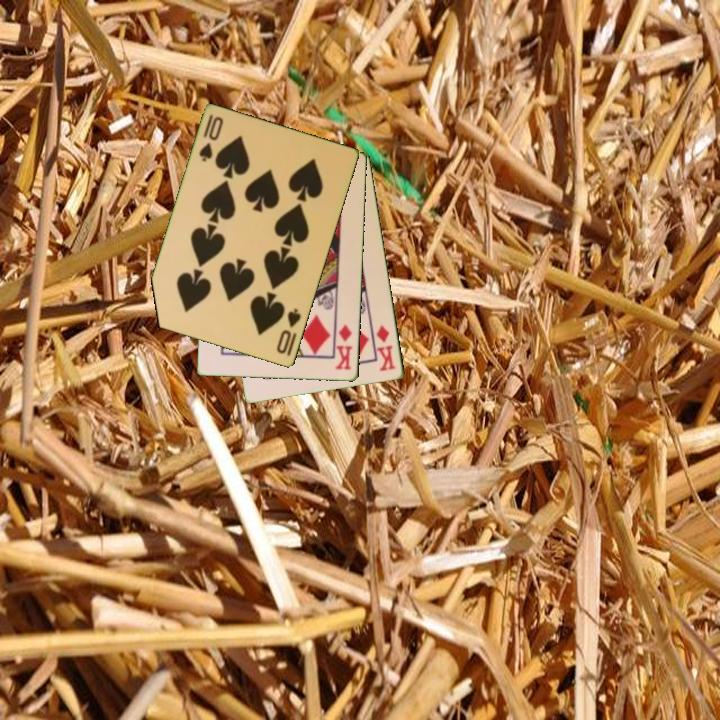10s: (196, 111, 226, 165), (273, 305, 304, 357)
Kd: (373, 322, 399, 374), (332, 321, 355, 373)
